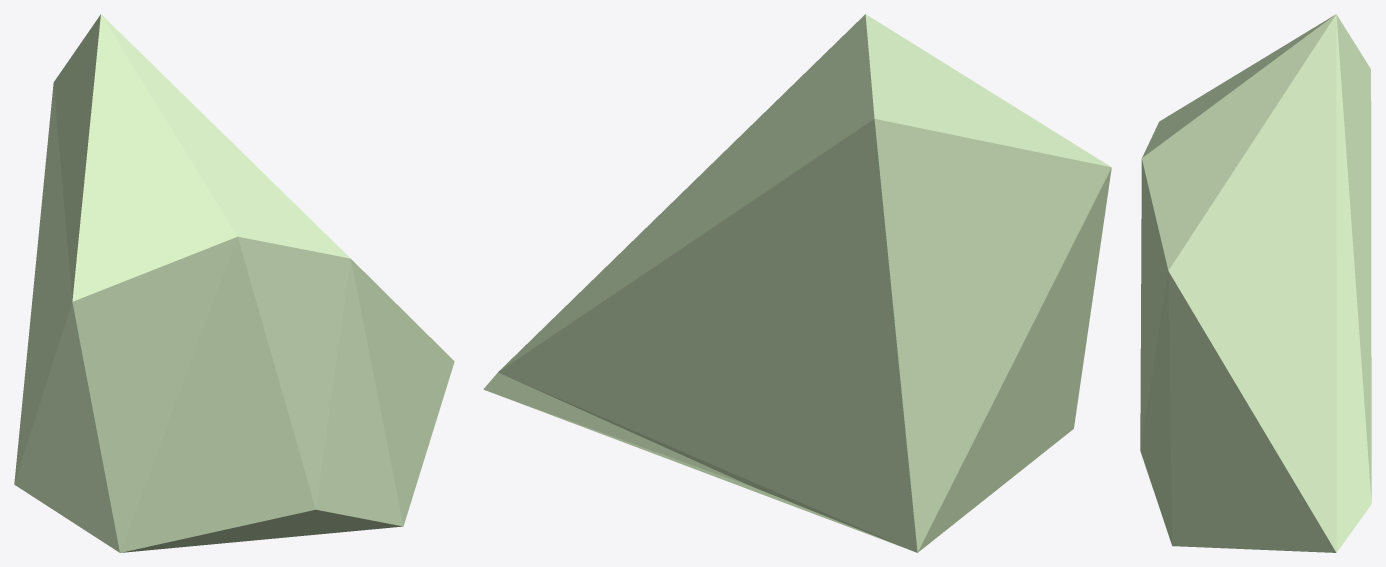
Rendered from kuka_URDF_robot_base_coll_10.dae.
The picture shows the model from 3 angles, left to right: view 1: azimuth 30°, elevation 25°; view 2: azimuth 150°, elevation 25°; view 3: azimuth 270°, elevation 25°; orthographic projection. The views are drawn at different scales.
Visible parts, largest first — view 1: Node_0000020FCC591400; view 2: Node_0000020FCC591400; view 3: Node_0000020FCC591400.
Part boxes in pixels (bbox=[...]): Node_0000020FCC591400: bbox=[14, 14, 454, 552]; Node_0000020FCC591400: bbox=[483, 14, 1111, 552]; Node_0000020FCC591400: bbox=[1140, 14, 1371, 552].
Bounding box in the file's own units: 0.0289 × 0.0284 × 0.0135.
